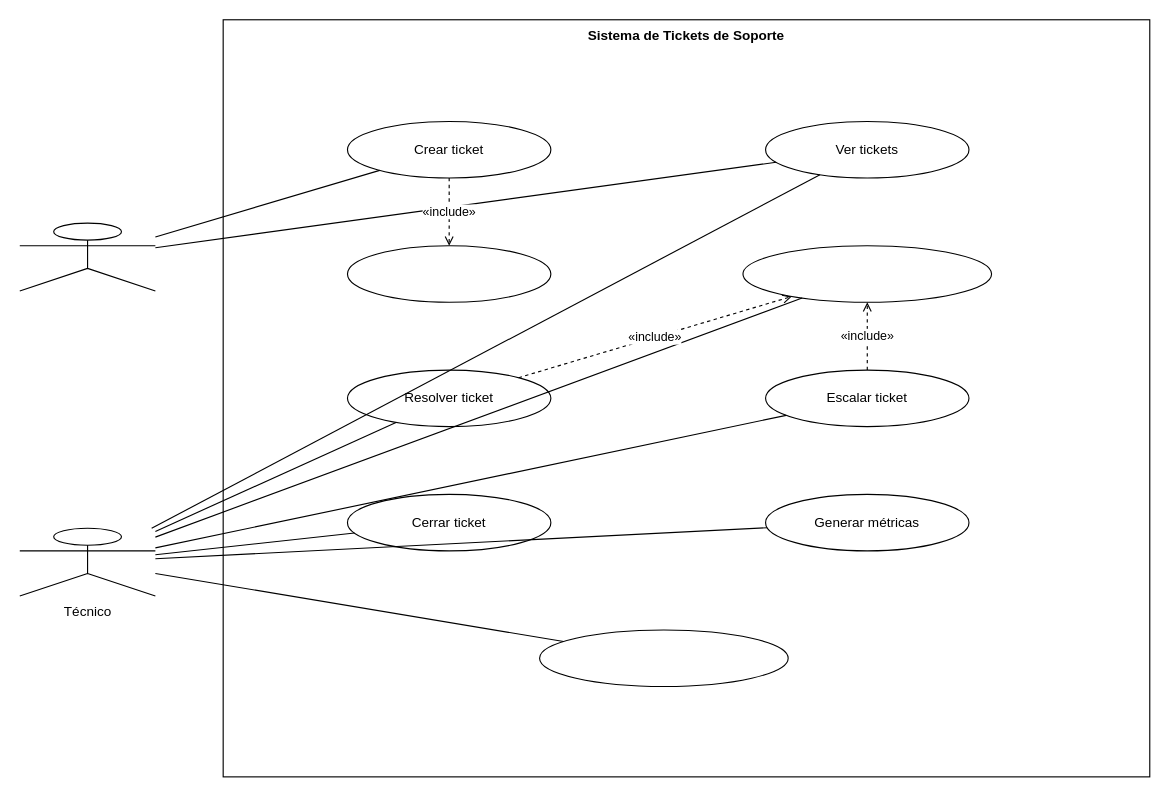
The diagram is 1170 pixels wide and 797 high, and some of its shapes have lost their labels. The box of each missing label's shape, as (x1, y1, x2, y2) in pixels:
Asignar ticket: (346, 245, 551, 302)
Consultar flujo de estados: (538, 629, 788, 686)
Registrar bitácora / error: (742, 245, 992, 302)
Solicitante: (19, 222, 155, 291)
